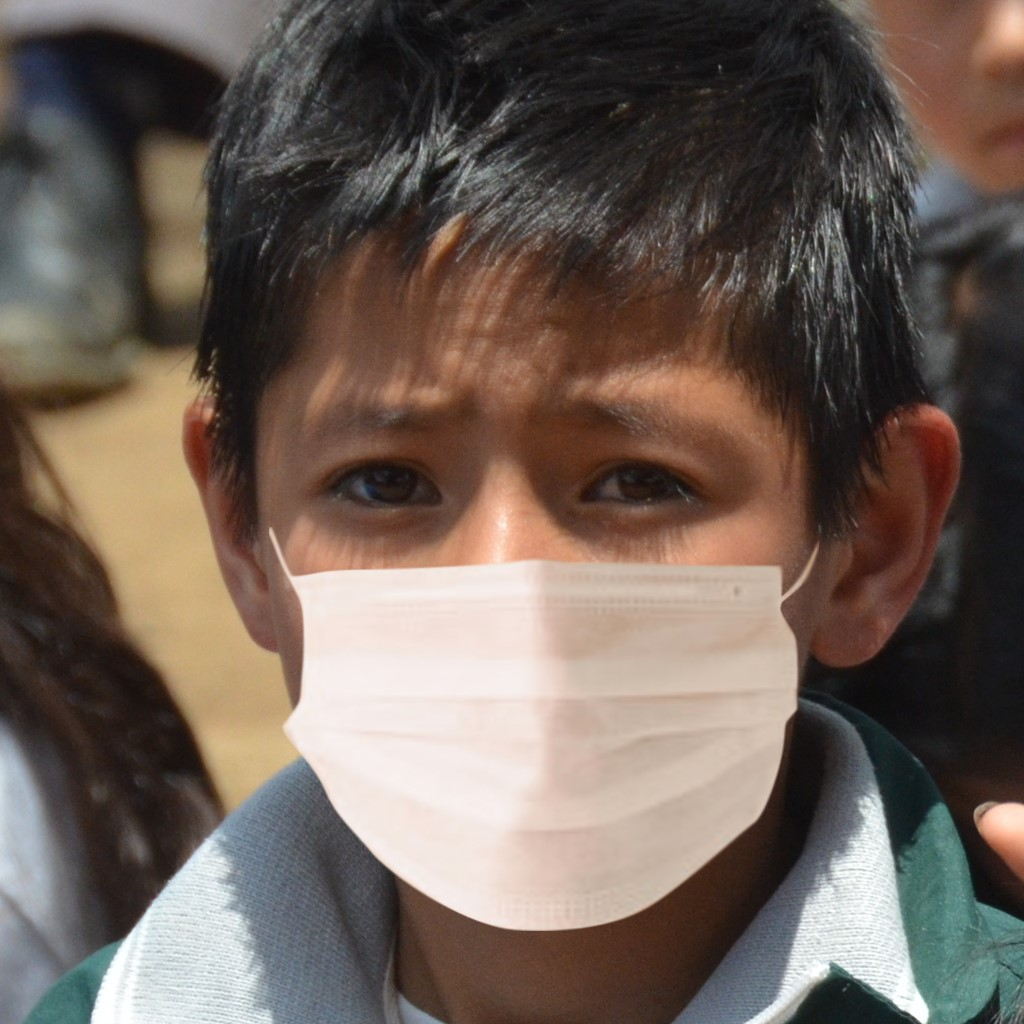con_mascara: (249, 139, 828, 866)
